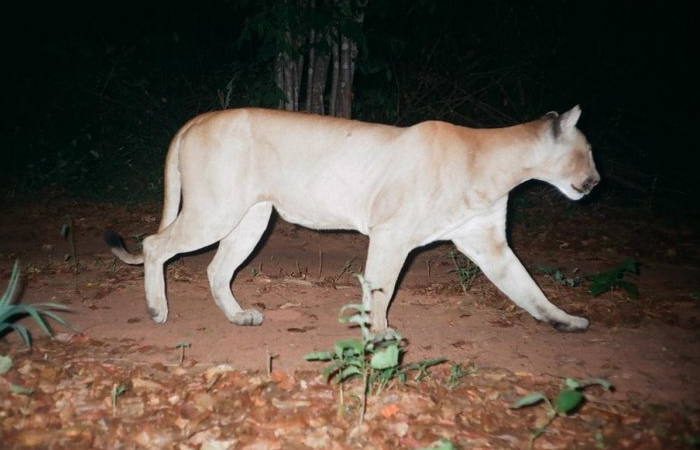OncaParda: (101, 99, 612, 347)
